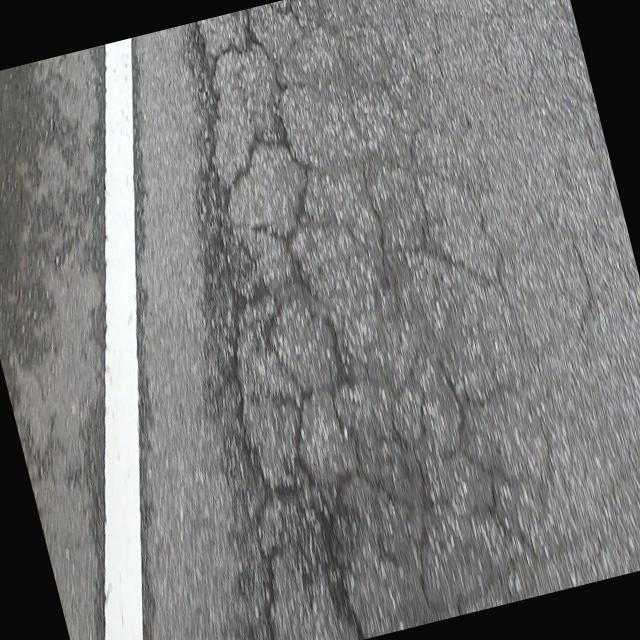Retak-Buaya: (196, 0, 565, 640)
